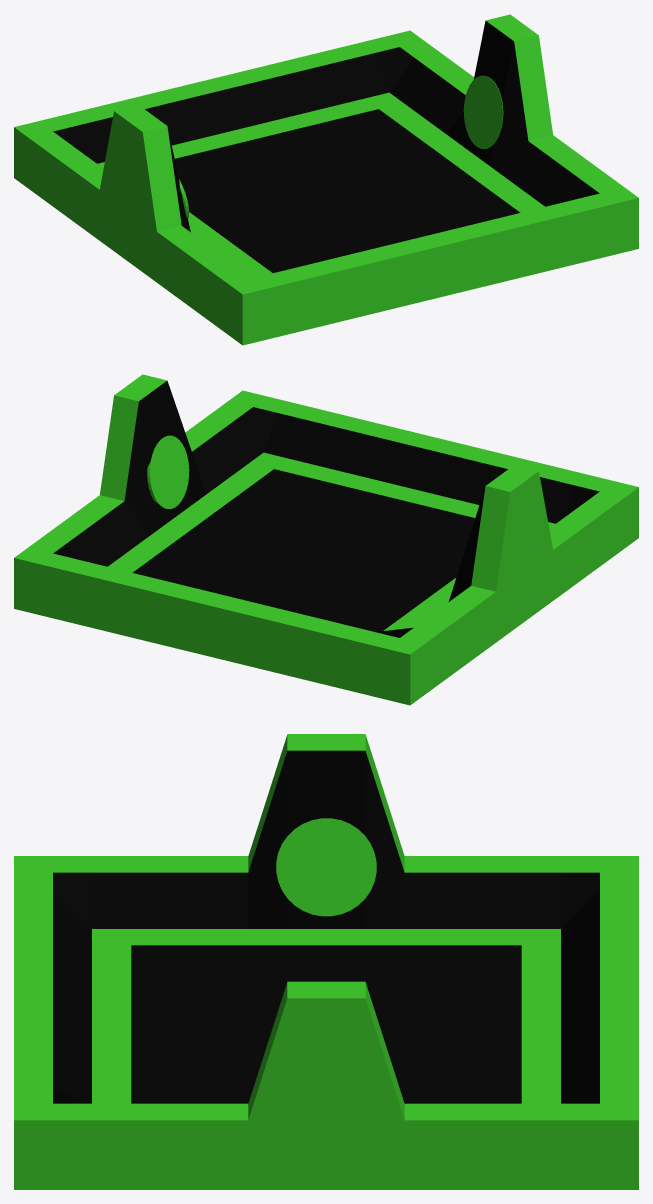
File: Radioactive Hub.fbx
The picture shows the model from 3 angles, top to bottom: view 1: azimuth 30°, elevation 25°; view 2: azimuth 150°, elevation 25°; view 3: azimuth 270°, elevation 25°; orthographic projection. The views are drawn at different scales.
Visible parts, largest first — view 1: Cube, Cylinder; view 2: Cube, Cylinder; view 3: Cube, Cylinder.001.
Boxes of the visible parts, box(x1,y1,x2,y2) form: Cube: box(14, 14, 638, 345); Cylinder: box(463, 75, 503, 149); Cube: box(14, 374, 638, 705); Cylinder: box(147, 435, 189, 509); Cube: box(14, 734, 638, 1189); Cylinder.001: box(276, 818, 376, 916).
Size of the model in its own units: 200 by 67.64 by 200.
